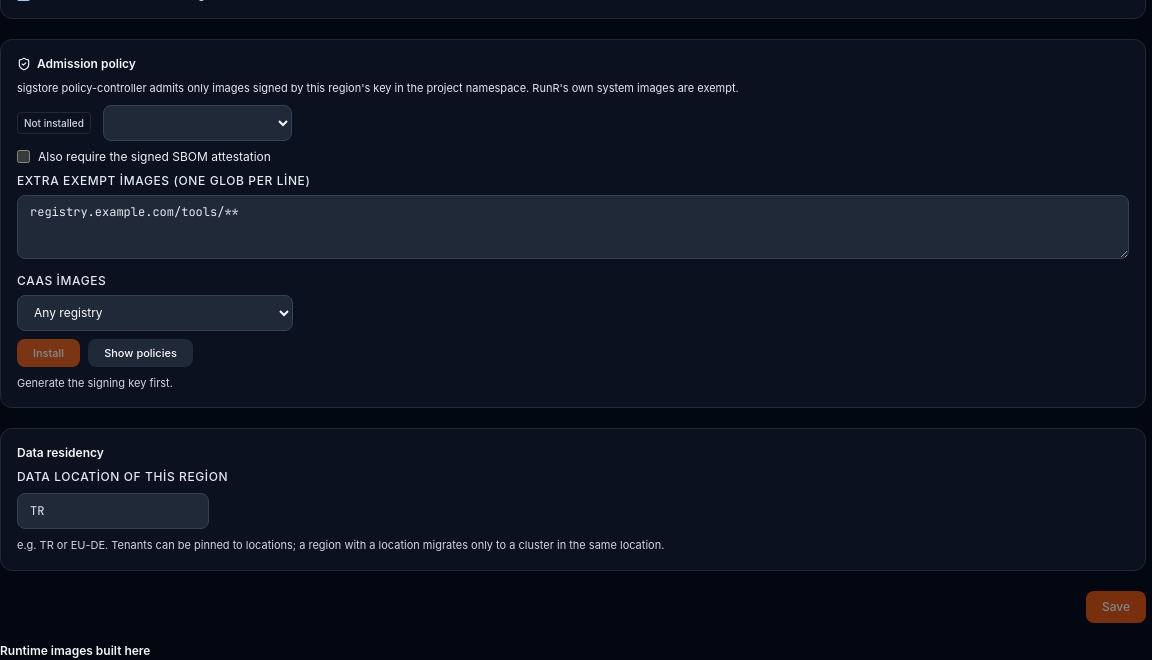
Test: RegionSupplyChainTab › shows validation errors of the API
(page scrolled)
Select "Listed registries, signed by a trusted key" in the 2nd dropdown. click: (155, 312)
box: [17,294,293,330]
(page scrolled)
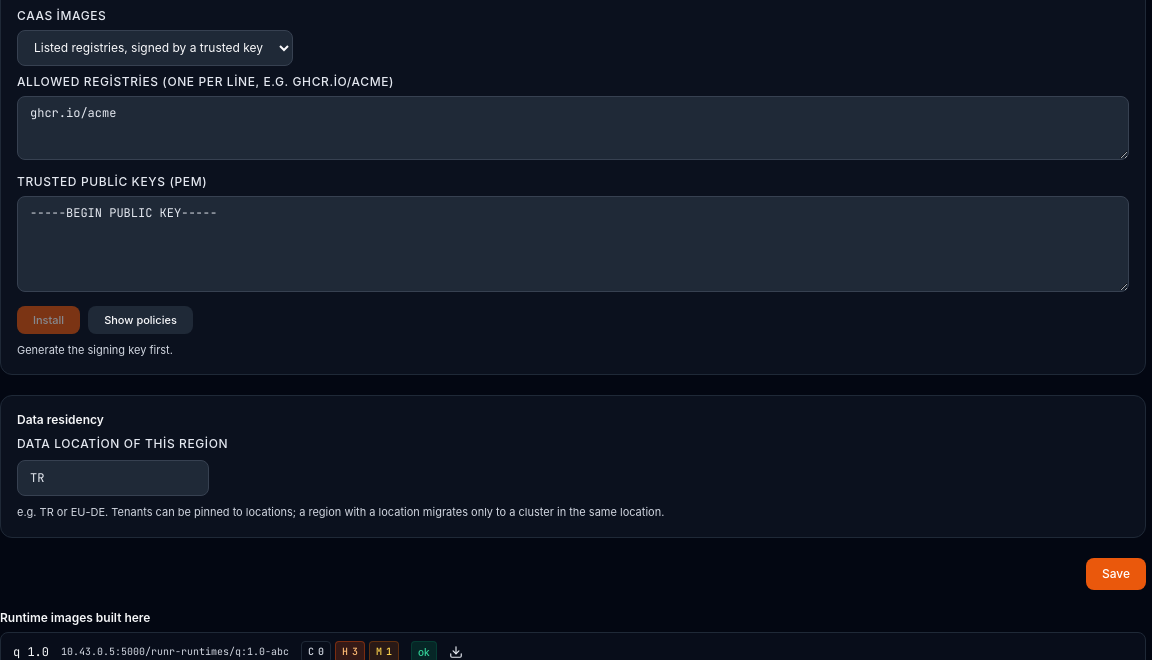
Click the button "Save". click: (1116, 574)
box: [1086,558,1146,590]
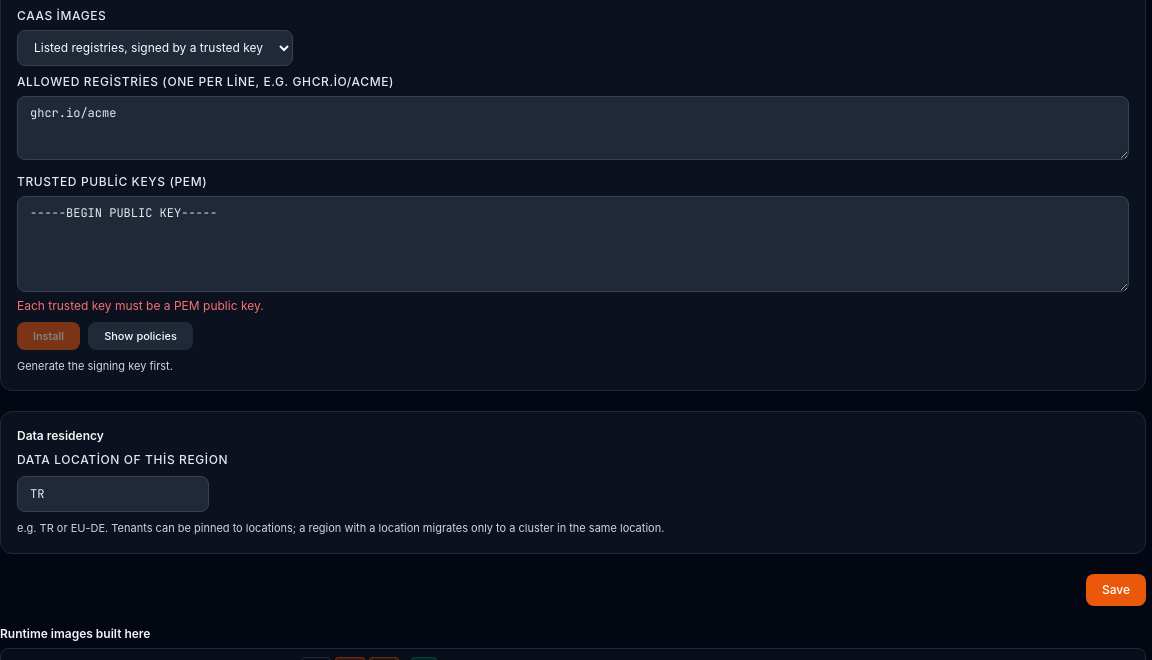
Now the text "Each trusted key must be a PEM public key." is shown, box [17,298,264,312]
